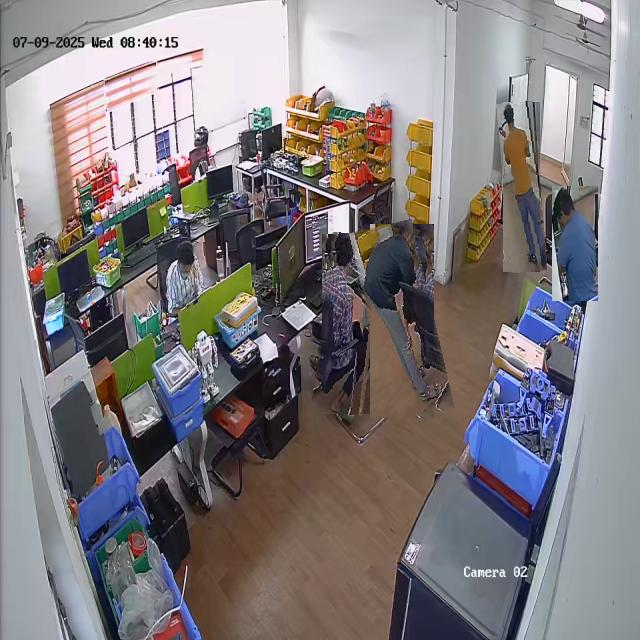person: (360, 222, 444, 420), (317, 233, 379, 415), (500, 101, 543, 272), (552, 186, 598, 301), (159, 243, 211, 313)
